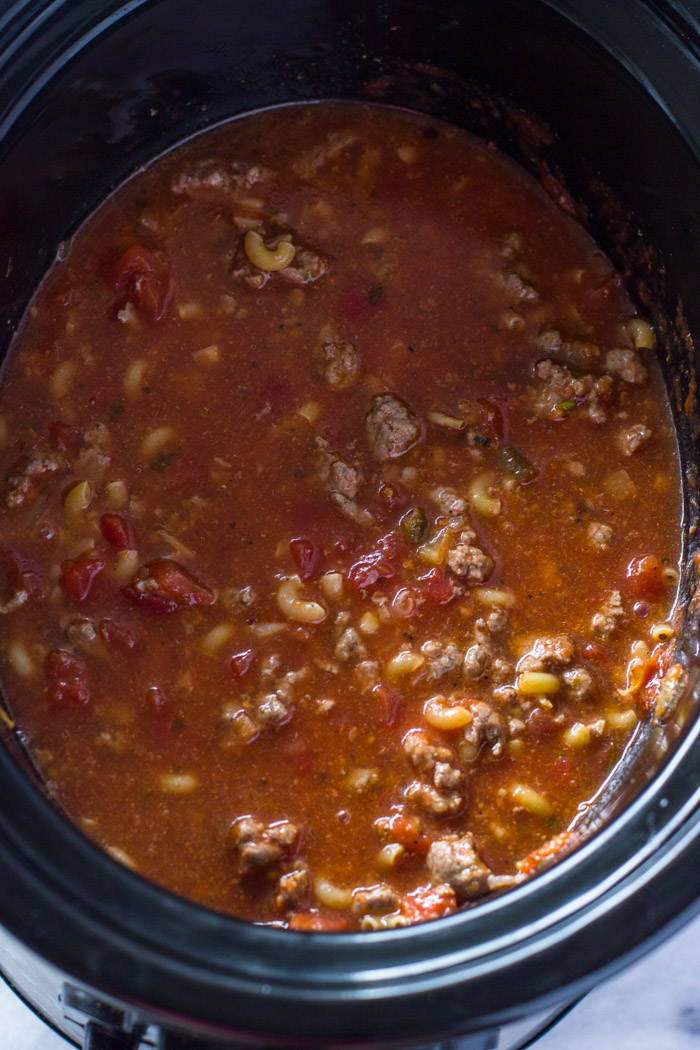ground_beef: (232, 790, 339, 915), (354, 394, 433, 476)
